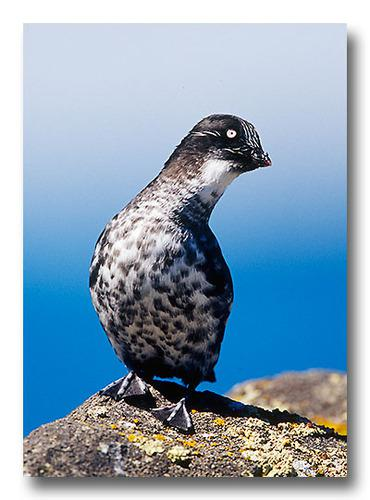006.Least_Auklet: (86, 111, 276, 435)
